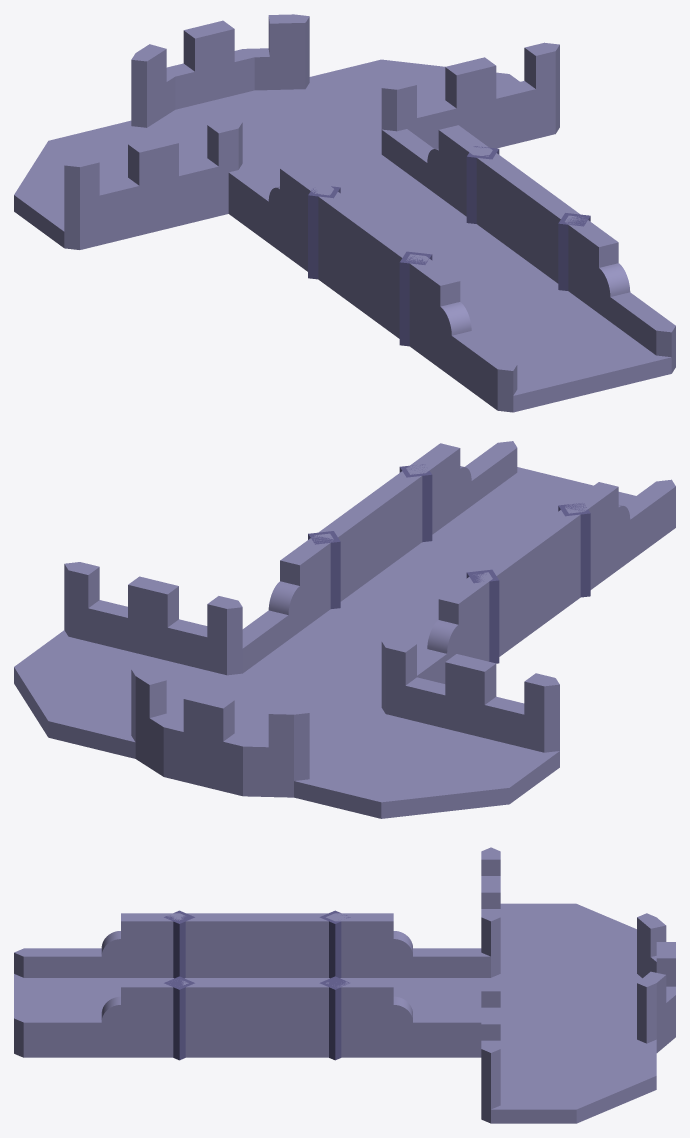
The model's file is corridor6.fbx.
3 views of the same model, one above another, from view 1: azimuth 30°, elevation 25°; view 2: azimuth 150°, elevation 25°; view 3: azimuth 270°, elevation 25° (orthographic). The views are drawn at different scales.
Parts seen in each view (by area): view 1: mergedBlocks; view 2: mergedBlocks; view 3: mergedBlocks.
Part boxes in pixels (box(x1,y1,x2,y2)): mergedBlocks: box(14, 14, 675, 412); mergedBlocks: box(14, 441, 675, 818); mergedBlocks: box(14, 847, 675, 1123).
Bounding box in the file's own units: 31.25 × 5 × 42.5.
